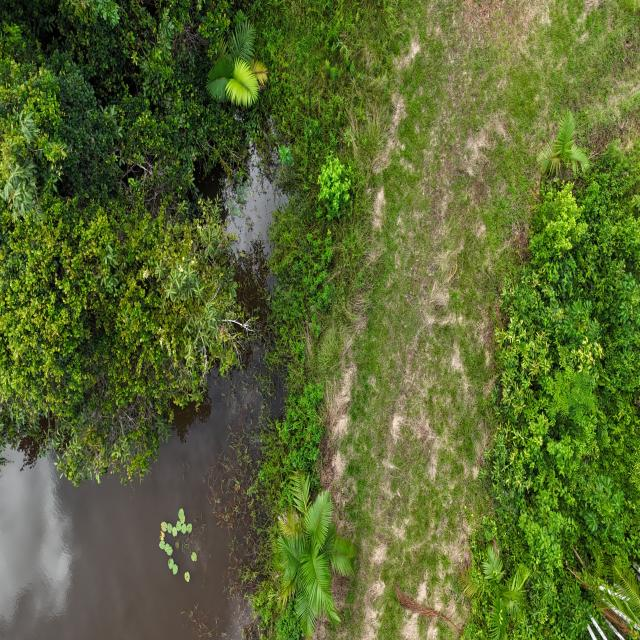vegetation: (464, 131, 639, 638), (268, 471, 357, 638)
